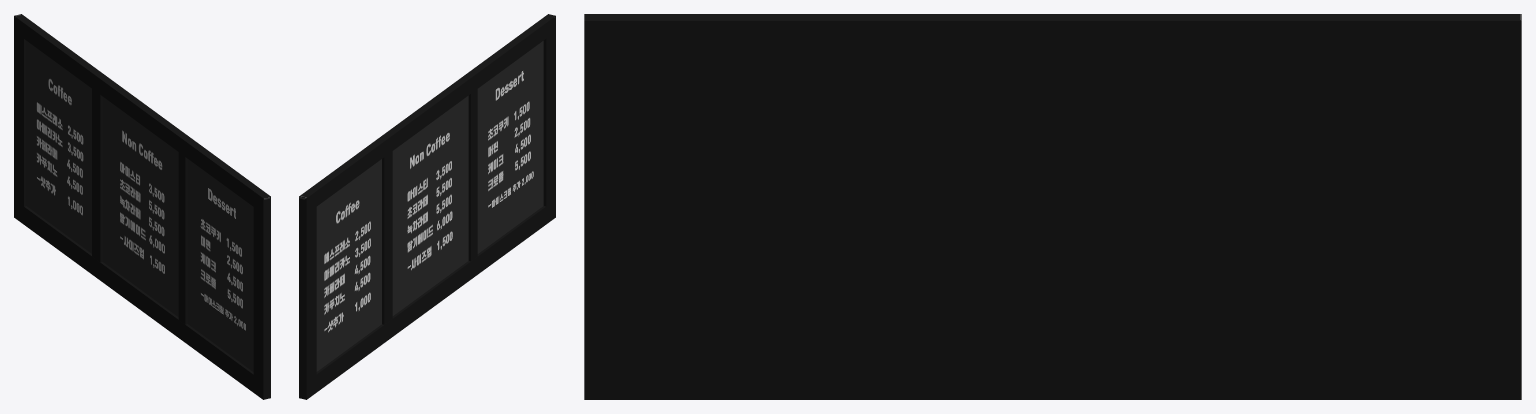
Rendered from CafeMenu.fbx.
The picture shows the model from 3 angles, left to right: view 1: azimuth 30°, elevation 25°; view 2: azimuth 150°, elevation 25°; view 3: azimuth 270°, elevation 25°; orthographic projection. The views are drawn at different scales.
Visible parts, largest first — view 1: Box009; view 2: Box009; view 3: Box009.
Boxes of the visible parts, x1,y1,x2,y2 form: Box009: [14, 14, 270, 399]; Box009: [299, 14, 555, 399]; Box009: [584, 14, 1521, 399].
Bounding box in the file's own units: 5 × 127 × 285.
1 material, 1 textured.
